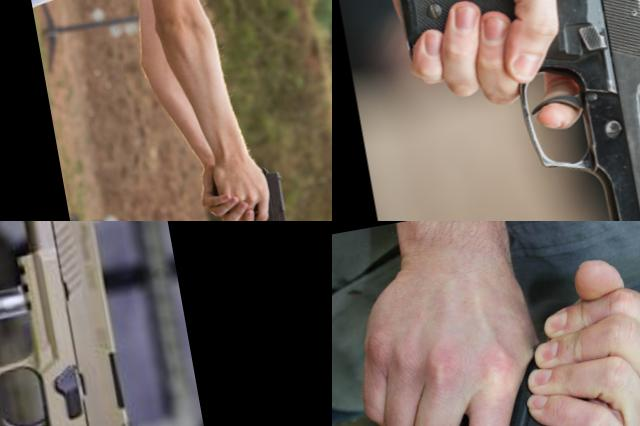handgun: (385, 0, 640, 221), (0, 221, 167, 426), (383, 328, 636, 426), (204, 156, 297, 221)
